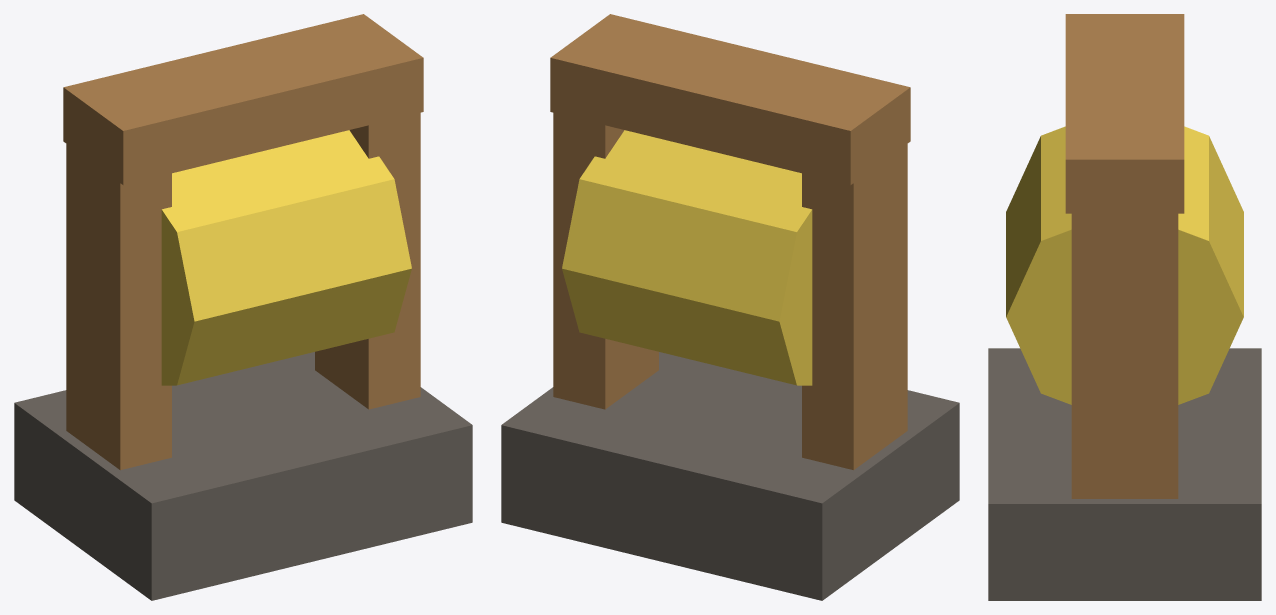
Rendered from Carpenter_MooringPulley_Blockout.fbx.
3 renders of one model, left to right at view 1: azimuth 30°, elevation 25°; view 2: azimuth 150°, elevation 25°; view 3: azimuth 270°, elevation 25°, orthographic.
Parts seen in each view (by area): view 1: Carpenter_MooringPulley; view 2: Carpenter_MooringPulley; view 3: Carpenter_MooringPulley.
Boxes of the visible parts, x1,y1,x2,y2 form: Carpenter_MooringPulley: (14,14,472,600); Carpenter_MooringPulley: (501,14,959,600); Carpenter_MooringPulley: (988,14,1261,600).
Bounding box in the file's own units: 0.62 × 0.81 × 0.46.
